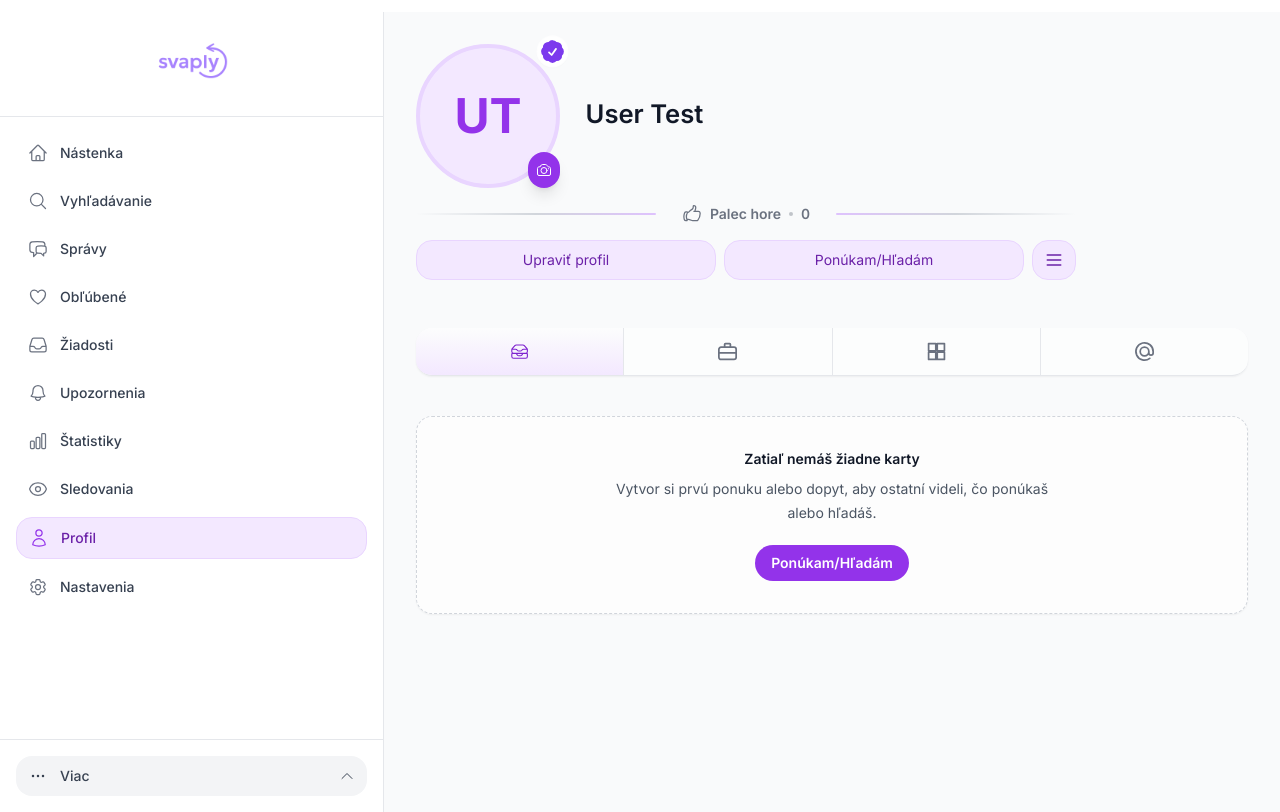
it: Dashboard: scroll po uložení profilu naprieč zmenou obrazovky › desktop: úprava otvorená z odscrollovaného profilu začína od začiatku
(page scrolled)
Click the button "Upraviť profil" at {"x": 566, "y": 260}, box [416, 240, 716, 280]
(page scrolled)
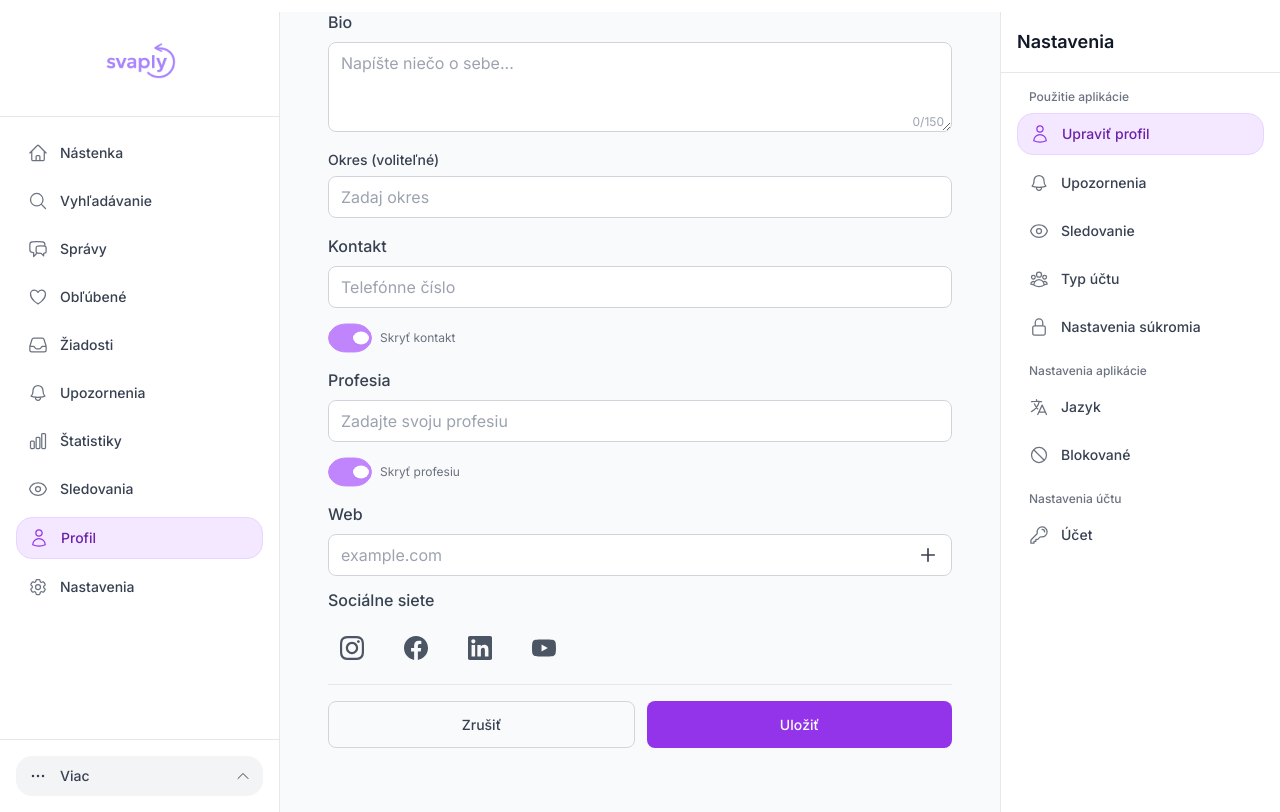
Result: the button "Uložiť" is shown at [647, 701, 952, 748]
